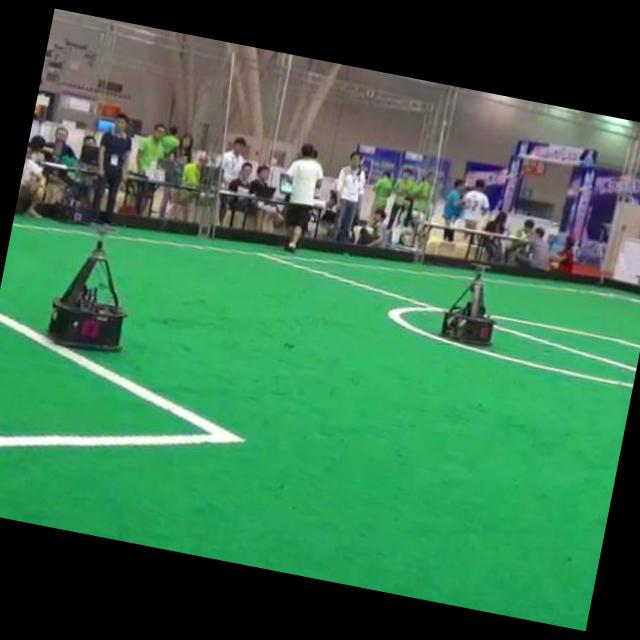robot: (48, 240, 126, 350)
